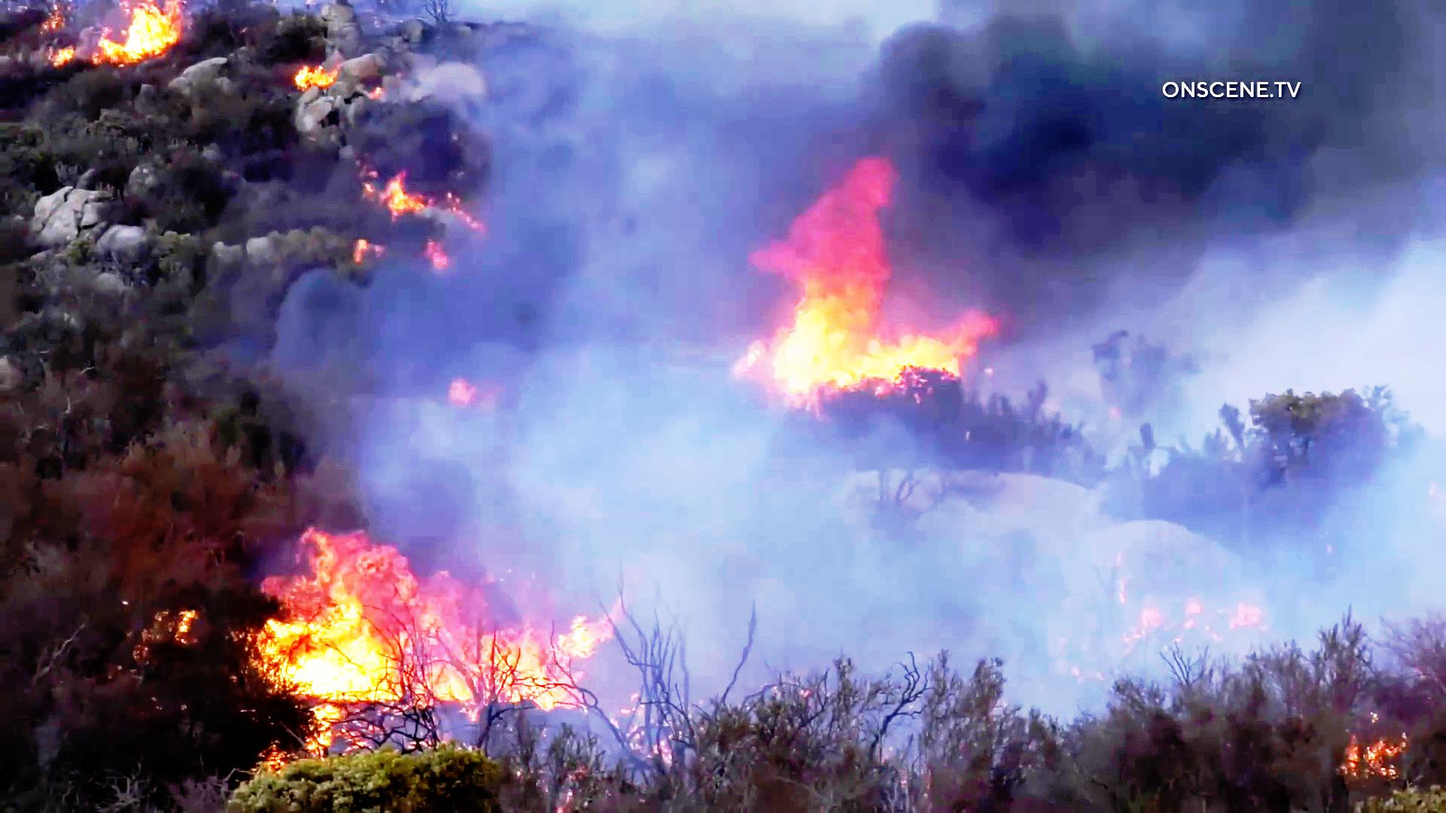fire: (238, 539, 587, 709), (721, 175, 995, 386), (45, 0, 204, 53)
smoke: (701, 422, 1114, 657), (467, 15, 659, 494), (985, 29, 1124, 348)
